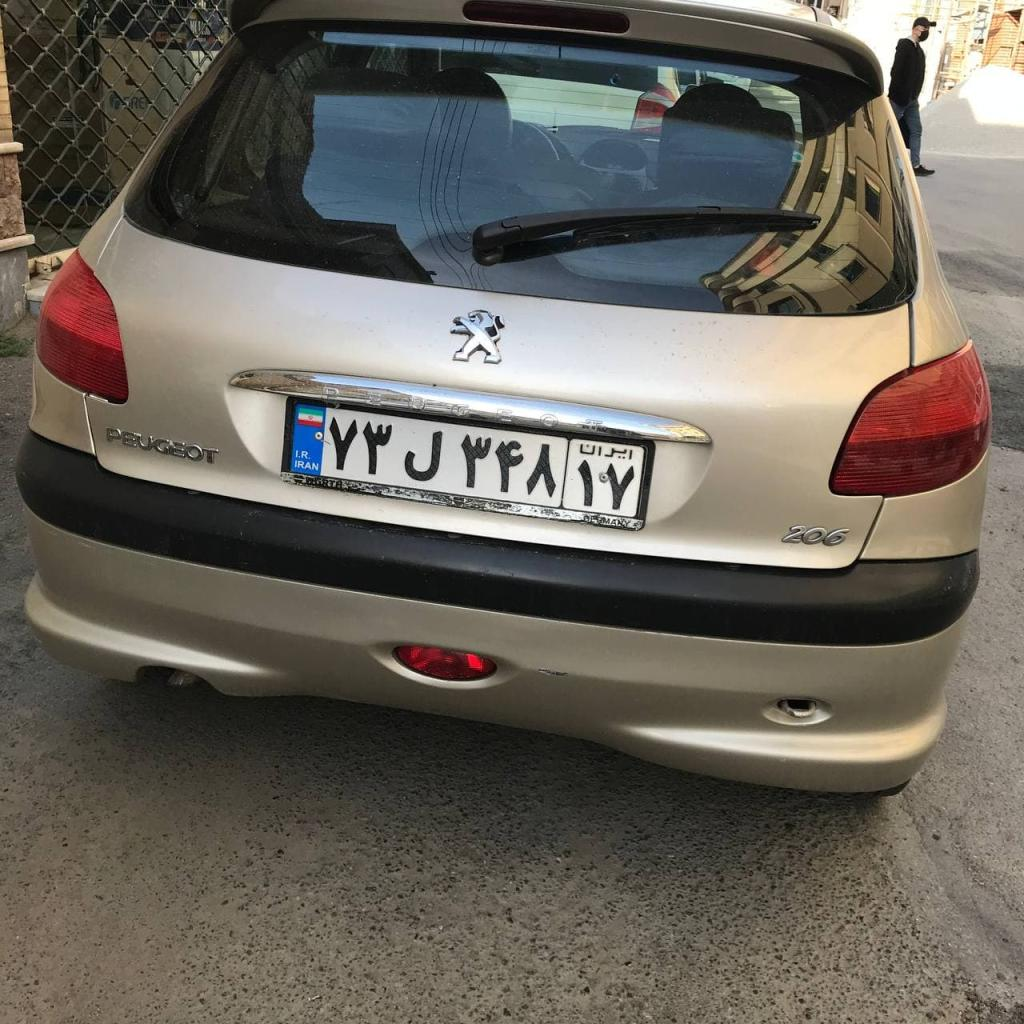Plates: (289, 403, 646, 518)
